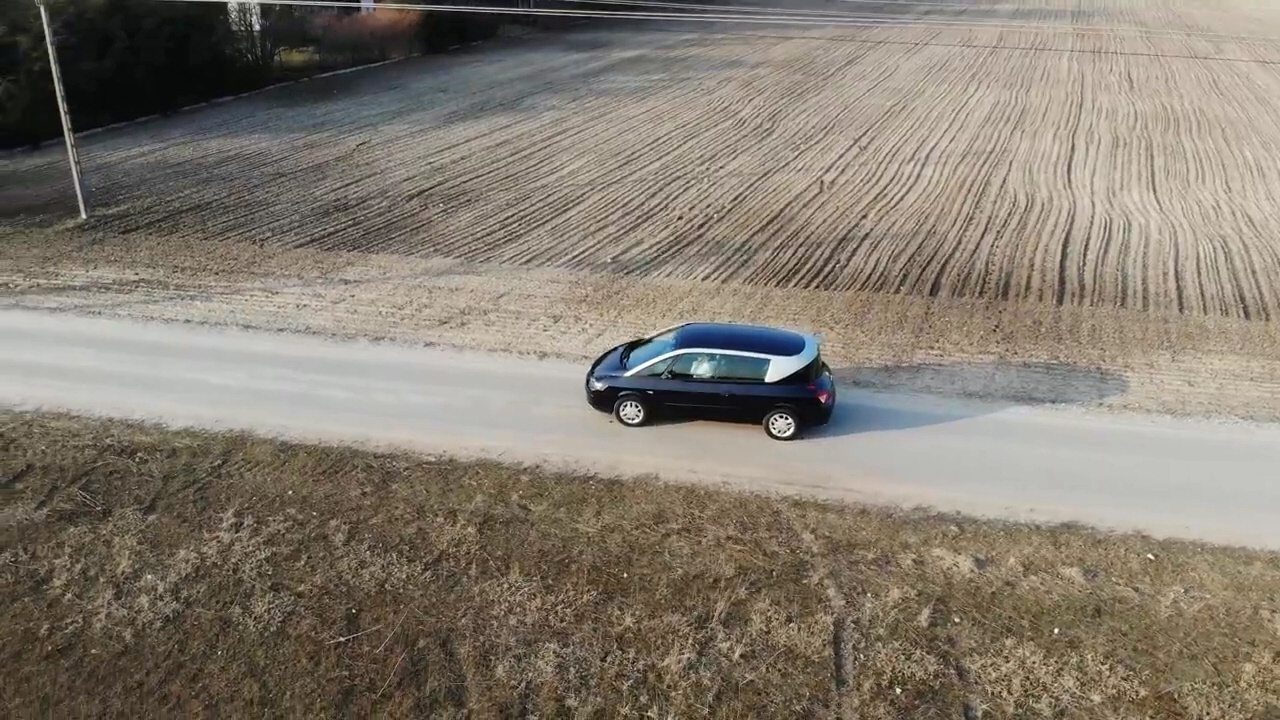araba: (585, 318, 836, 441)
